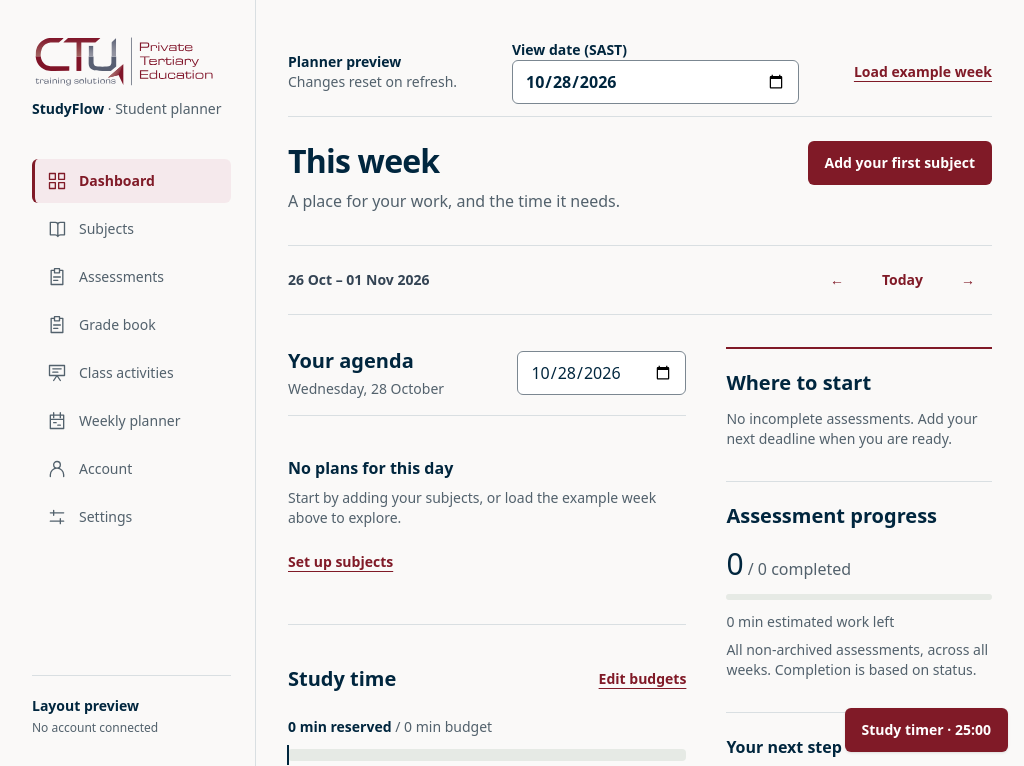
shared starter navigation › loads an explicit example week and filters assessments without pretending to save them
Click the button "Load example week": (923, 72) [854,50,992,94]
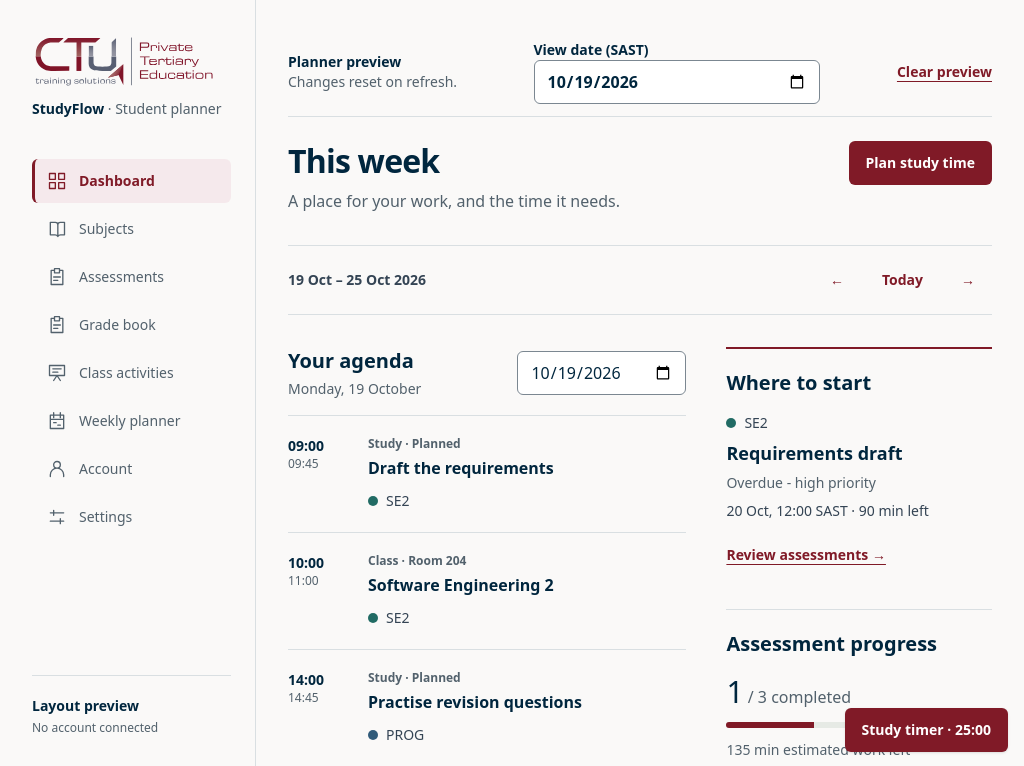
Expected: the heading "Requirements draft" is shown, [726,441,902,465]
Click the link "Assessments": (106, 277) [47,267,164,287]
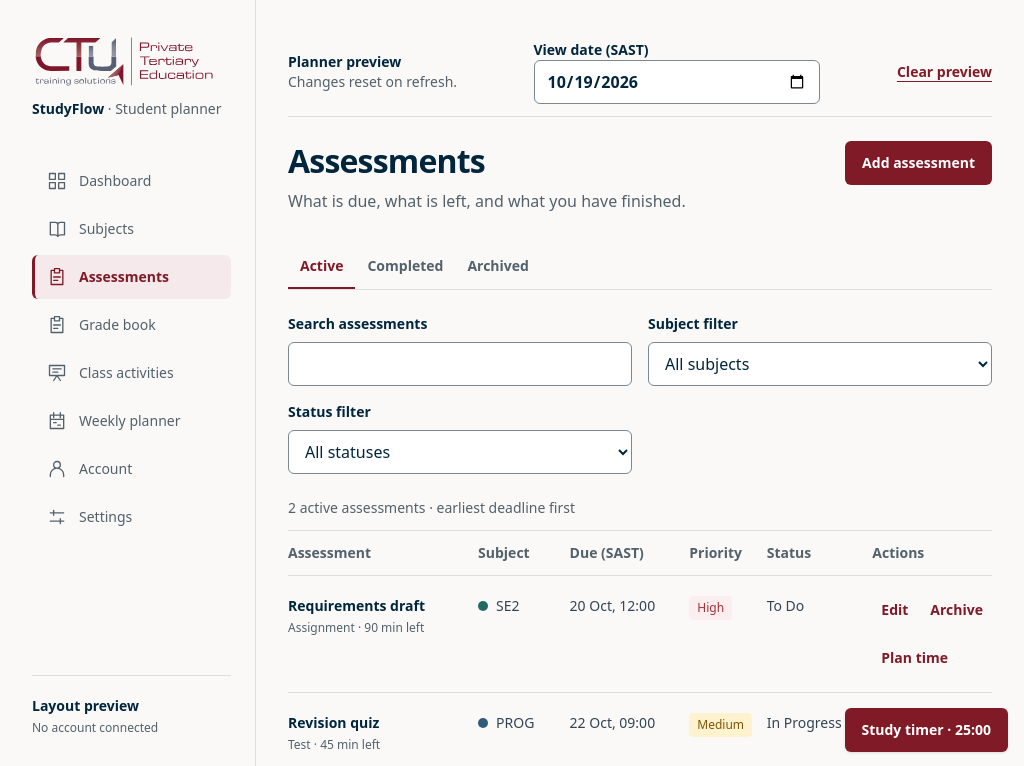
In the search field labelled "Search assessments": (460, 364) [288,342,632,386], type "quiz"
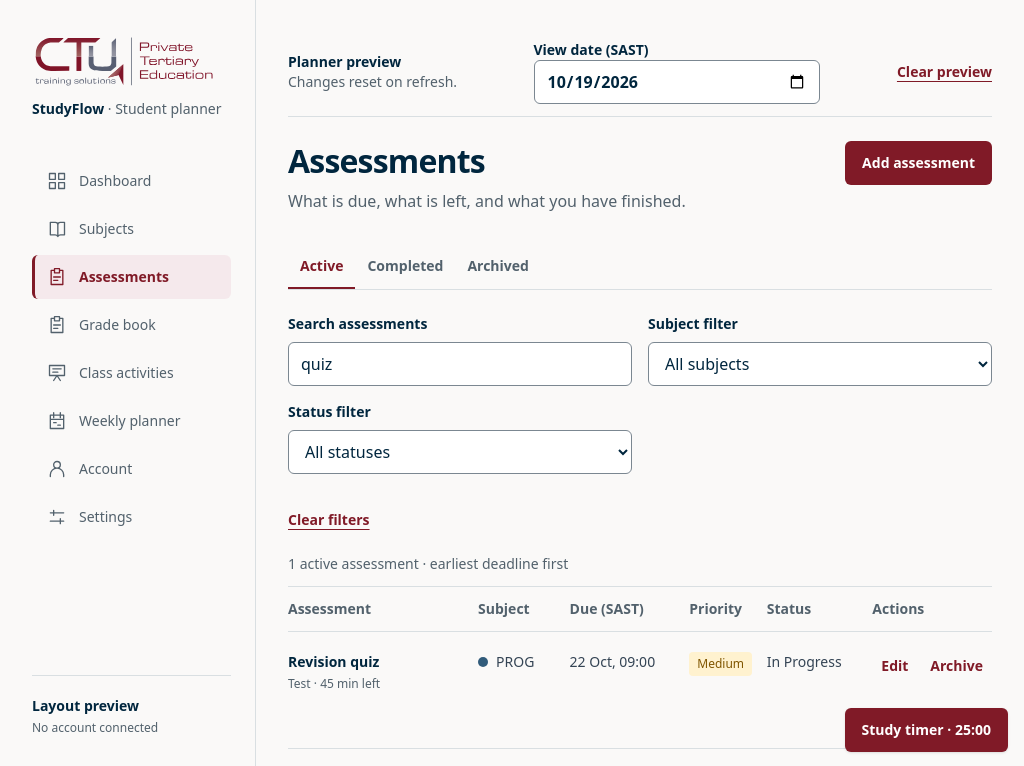
Expected: the text "Revision quiz" is shown, [288,652,379,671]
Expected: the text "Requirements draft" is gone
Click the button "Clear filters": (329, 520) [288,498,370,542]
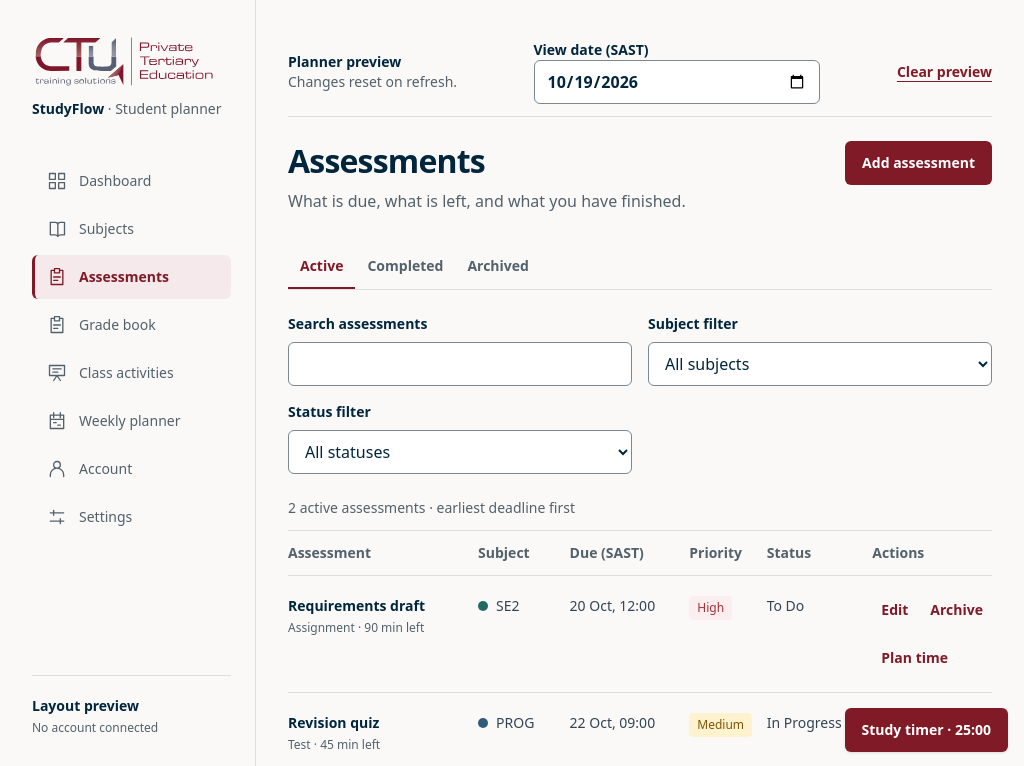
Expected: the text "Requirements draft" is shown, [288,596,425,615]
